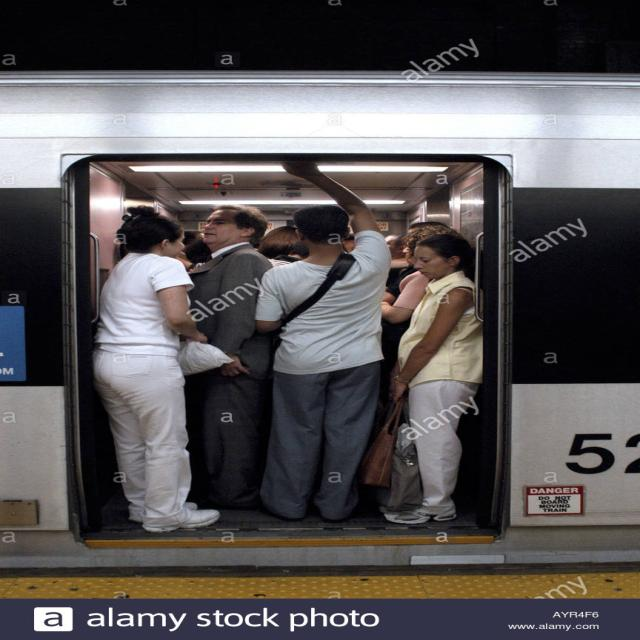body: (248, 155, 396, 524), (88, 225, 502, 333), (90, 204, 224, 534), (170, 203, 279, 518), (382, 233, 488, 525)
